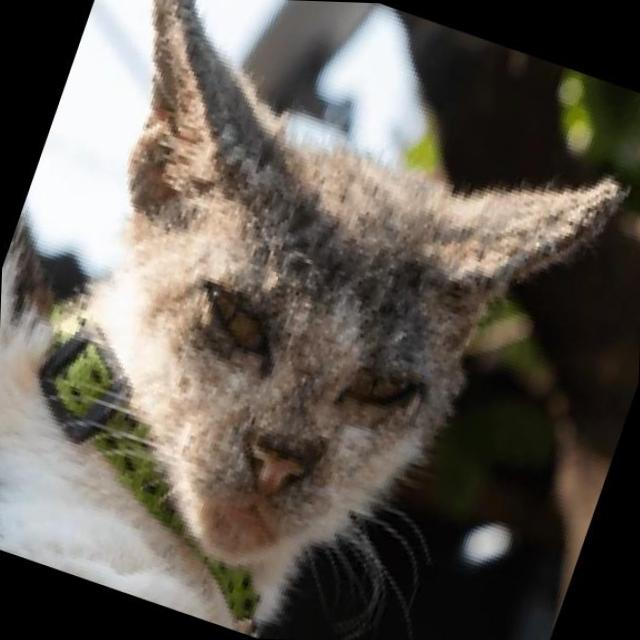Mange: (449, 179, 620, 283), (262, 338, 334, 404), (369, 296, 421, 370), (187, 314, 253, 372), (196, 129, 262, 180), (340, 397, 424, 427)
